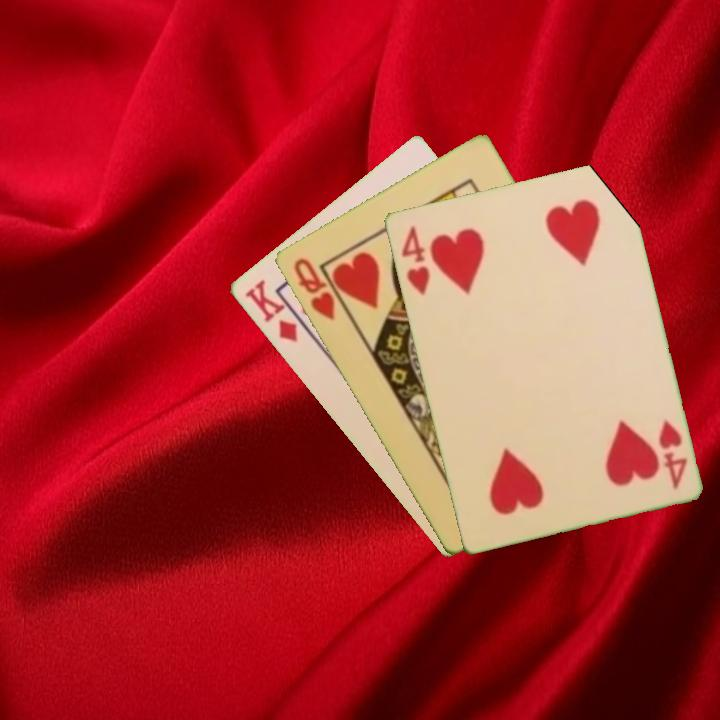4h: (654, 416, 690, 492), (397, 222, 432, 297)
Kd: (241, 276, 312, 346)
Qh: (289, 254, 338, 323)
